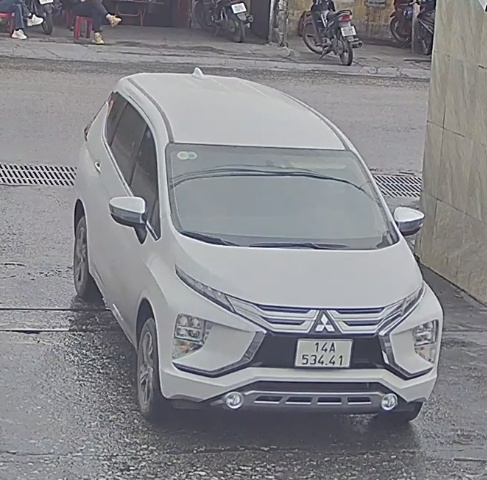vehicle plate: (292, 334, 355, 372)
